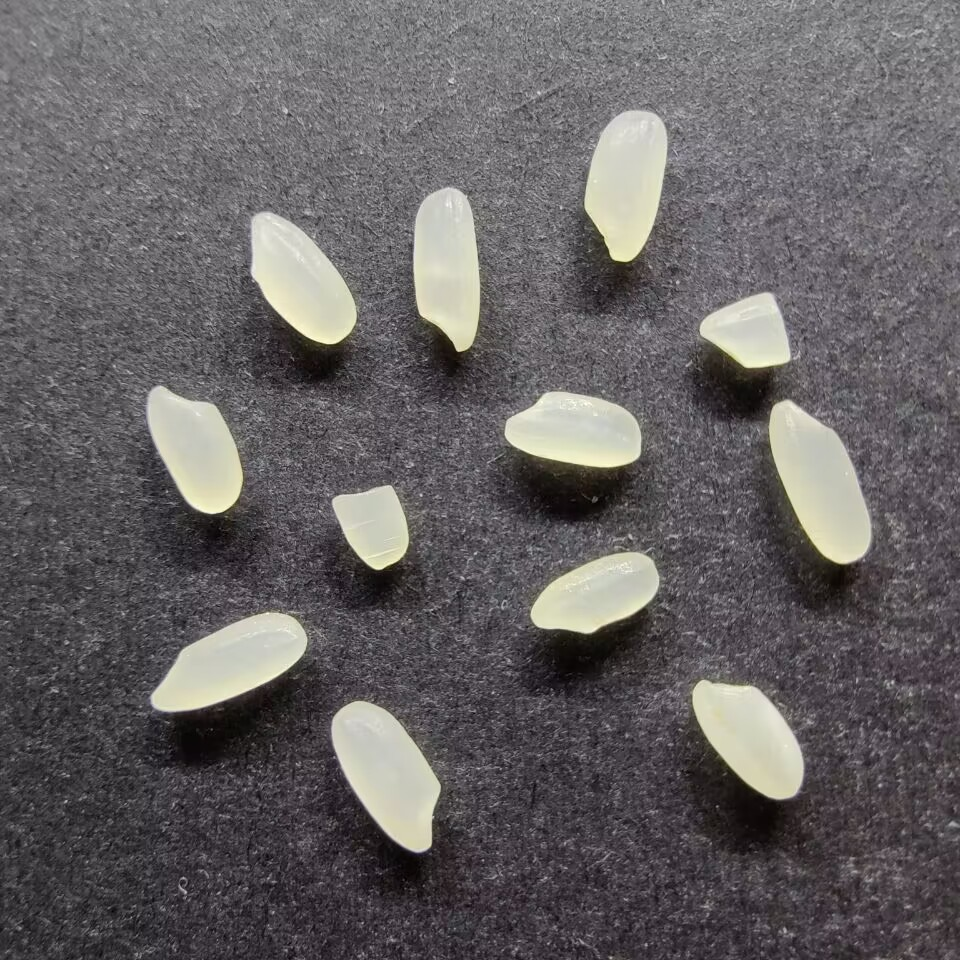broken: (695, 290, 796, 372), (329, 483, 414, 571)
rice: (766, 396, 874, 566), (328, 698, 443, 855), (147, 611, 308, 716), (245, 210, 358, 346), (691, 676, 806, 802), (580, 108, 668, 263), (140, 383, 242, 516), (408, 185, 483, 352), (528, 549, 661, 636), (501, 389, 643, 469)
